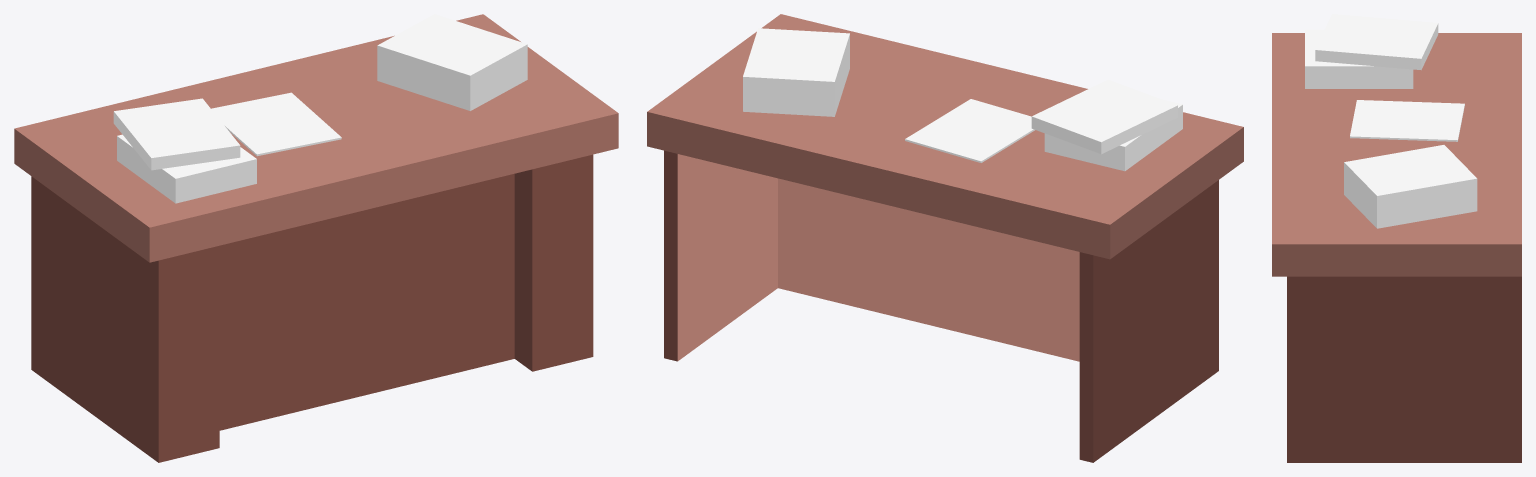
Rendered from office-desk-3.glb.
The picture shows the model from 3 angles, left to right: view 1: azimuth 30°, elevation 25°; view 2: azimuth 150°, elevation 25°; view 3: azimuth 270°, elevation 25°; orthographic projection. The views are drawn at different scales.
Visible parts, largest first — view 1: REFERENCE.004, Cube.016, Cube.018, Cube.017, Cube.015; view 2: REFERENCE.004, Cube.016, Cube.018, Cube.017, Cube.015; view 3: REFERENCE.004, Cube.016, Cube.018, Cube.017, Cube.015.
Boxes of the visible parts, <box> form: REFERENCE.004: <box>14,14,618,462</box>; Cube.016: <box>377,14,527,110</box>; Cube.018: <box>113,98,240,170</box>; Cube.017: <box>211,92,341,156</box>; Cube.015: <box>117,134,256,203</box>; REFERENCE.004: <box>647,14,1243,462</box>; Cube.016: <box>743,28,849,116</box>; Cube.018: <box>1031,79,1177,154</box>; Cube.017: <box>905,99,1034,162</box>; Cube.015: <box>1044,99,1182,171</box>; REFERENCE.004: <box>1272,33,1521,462</box>; Cube.016: <box>1344,145,1477,228</box>; Cube.018: <box>1315,14,1438,70</box>; Cube.017: <box>1350,100,1464,141</box>; Cube.015: <box>1305,29,1413,88</box>.
Size of the model in its own units: 1.4 by 0.8064 by 0.7.
4 materials, 4 textured.
